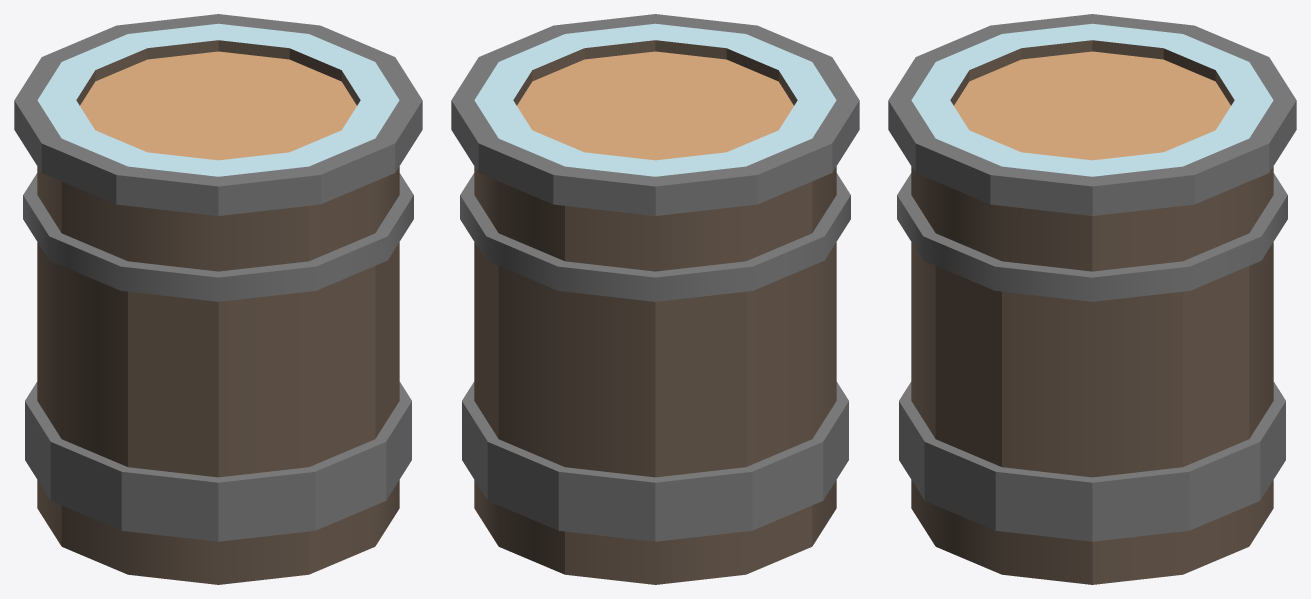
The model's file is SM_BarrelNarrow_Closed.fbx.
3 renders of one model, left to right at view 1: azimuth 30°, elevation 25°; view 2: azimuth 150°, elevation 25°; view 3: azimuth 270°, elevation 25°, orthographic.
Visible parts, largest first — view 1: SM_BarrelNarrow_Closed; view 2: SM_BarrelNarrow_Closed; view 3: SM_BarrelNarrow_Closed.
Part boxes in pixels (x1,y1,x2,y2): SM_BarrelNarrow_Closed: (14, 14, 422, 584); SM_BarrelNarrow_Closed: (451, 14, 859, 584); SM_BarrelNarrow_Closed: (888, 14, 1296, 584).
Bounding box in the file's own units: 67.83 × 74.82 × 67.83.
